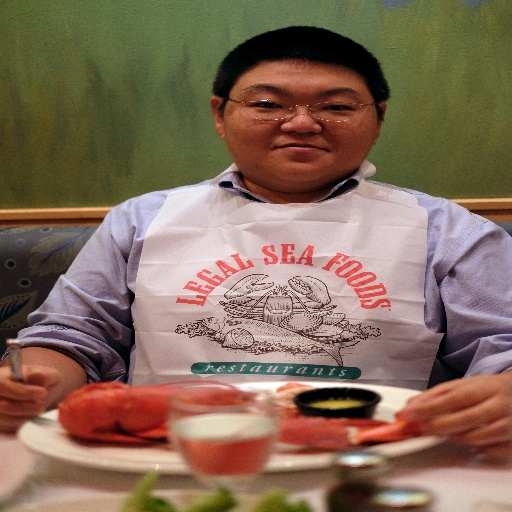hand: (405, 350, 512, 454), (0, 364, 63, 434)
